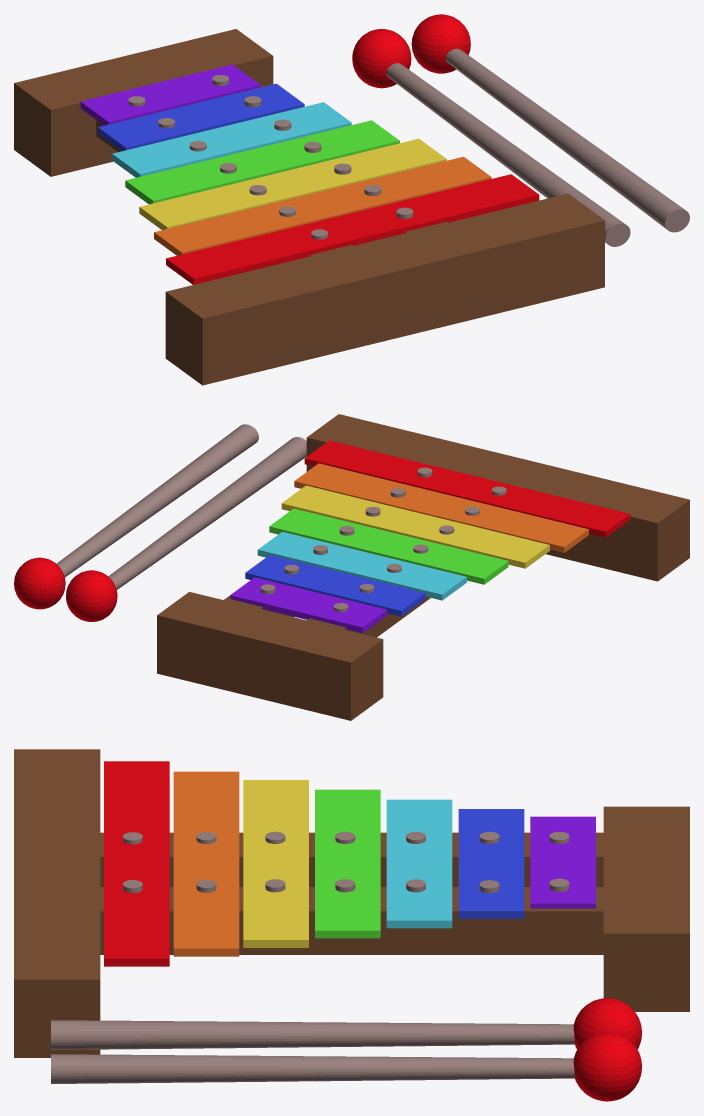
The model's file is xilofone.fbx.
The picture shows the model from 3 angles, top to bottom: view 1: azimuth 30°, elevation 25°; view 2: azimuth 150°, elevation 25°; view 3: azimuth 270°, elevation 25°; orthographic projection. The views are drawn at different scales.
Visible parts, largest first — view 1: Xilofone; view 2: Xilofone; view 3: Xilofone.
Boxes of the visible parts, x1,y1,x2,y2 form: Xilofone: (14, 14, 689, 385); Xilofone: (14, 414, 689, 720); Xilofone: (14, 749, 689, 1101).
Size of the model in its own units: 6.25 by 6.03 by 0.8697.
